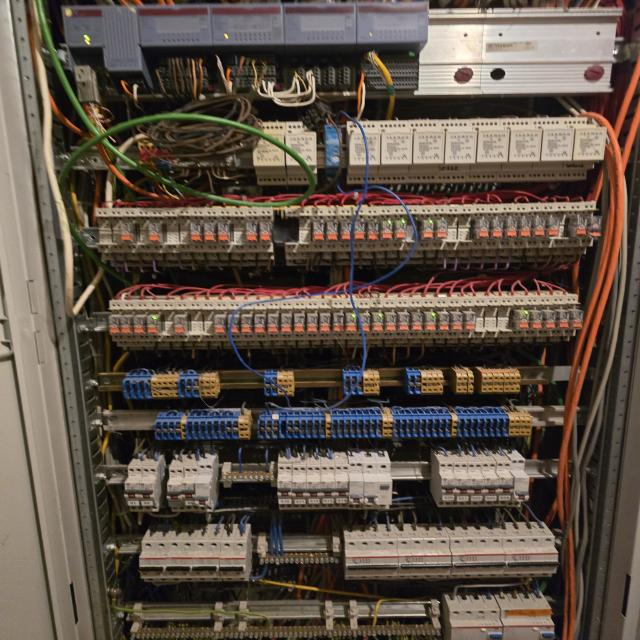Dimmer: (556, 117, 607, 180), (527, 118, 574, 181), (496, 119, 542, 181), (466, 119, 510, 181), (437, 120, 477, 183), (253, 123, 287, 185), (411, 120, 443, 184), (379, 120, 410, 183), (287, 122, 318, 184), (347, 120, 378, 182), (324, 124, 344, 175)
FI: (443, 596, 503, 640), (503, 596, 556, 640)
FI_Sicherungskombi: (363, 457, 393, 509)
Relais: (146, 220, 164, 244), (119, 220, 135, 244), (217, 222, 232, 244), (258, 220, 272, 242), (588, 216, 602, 238), (571, 217, 586, 237), (190, 221, 203, 243), (253, 314, 266, 336), (244, 222, 258, 242), (366, 221, 380, 241), (474, 219, 488, 239), (174, 314, 188, 334), (204, 221, 216, 244), (514, 310, 529, 328), (340, 220, 352, 242), (326, 221, 339, 241), (381, 221, 394, 241), (213, 314, 226, 334), (319, 313, 332, 333), (570, 309, 583, 329), (506, 218, 518, 239), (546, 218, 560, 236), (421, 220, 434, 239), (120, 315, 133, 334), (450, 312, 463, 331), (529, 310, 542, 329), (542, 309, 555, 328), (312, 221, 324, 241), (394, 221, 406, 241), (533, 218, 545, 238), (267, 314, 279, 334), (147, 316, 161, 333), (280, 314, 293, 332), (423, 313, 436, 331), (436, 312, 449, 330), (556, 310, 569, 328), (354, 221, 365, 242), (490, 219, 502, 238), (294, 313, 306, 332), (384, 313, 396, 332), (109, 315, 120, 335), (228, 315, 239, 335), (241, 314, 252, 334), (333, 313, 344, 333), (372, 312, 383, 332), (464, 312, 475, 332), (306, 314, 318, 332), (411, 312, 423, 330), (358, 313, 369, 332), (398, 312, 409, 331), (521, 218, 531, 238), (134, 316, 144, 335), (346, 314, 356, 333), (436, 220, 446, 238)
SPS-System -Steuerungskomponente-: (136, 5, 212, 48), (62, 6, 137, 46), (284, 5, 356, 43), (212, 6, 282, 45), (359, 4, 427, 44)
Schaltkasten: (3, 0, 638, 640)
Sicherungen_230V: (506, 459, 530, 507), (493, 461, 514, 507), (194, 464, 214, 512), (479, 461, 499, 507), (124, 466, 144, 511), (138, 467, 158, 511), (452, 462, 471, 507), (466, 462, 485, 507), (438, 461, 456, 507), (167, 467, 185, 512), (181, 467, 199, 512), (139, 540, 157, 582), (192, 540, 209, 582), (278, 463, 293, 510), (307, 462, 322, 509), (152, 541, 169, 582), (179, 541, 196, 582), (206, 541, 223, 582), (322, 462, 336, 510), (166, 541, 182, 582), (219, 541, 235, 581), (232, 541, 248, 581), (336, 462, 349, 508), (294, 462, 306, 510), (350, 462, 362, 509)
Sicherungen_400V: (345, 539, 399, 579), (451, 538, 505, 577), (399, 539, 451, 579), (506, 538, 558, 577)
Verbinder: (261, 407, 534, 437), (157, 411, 250, 439), (124, 373, 220, 398), (477, 368, 521, 393), (341, 370, 380, 396), (404, 369, 443, 395), (263, 371, 295, 397), (450, 368, 474, 394)
